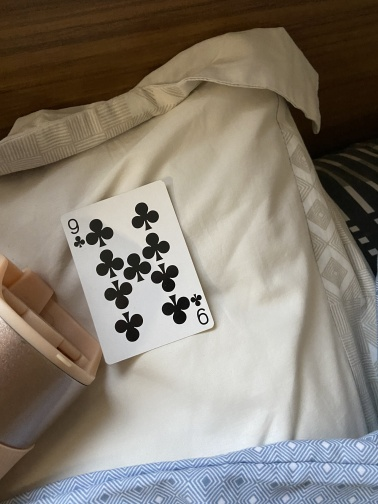nine: (59, 179, 215, 366)
